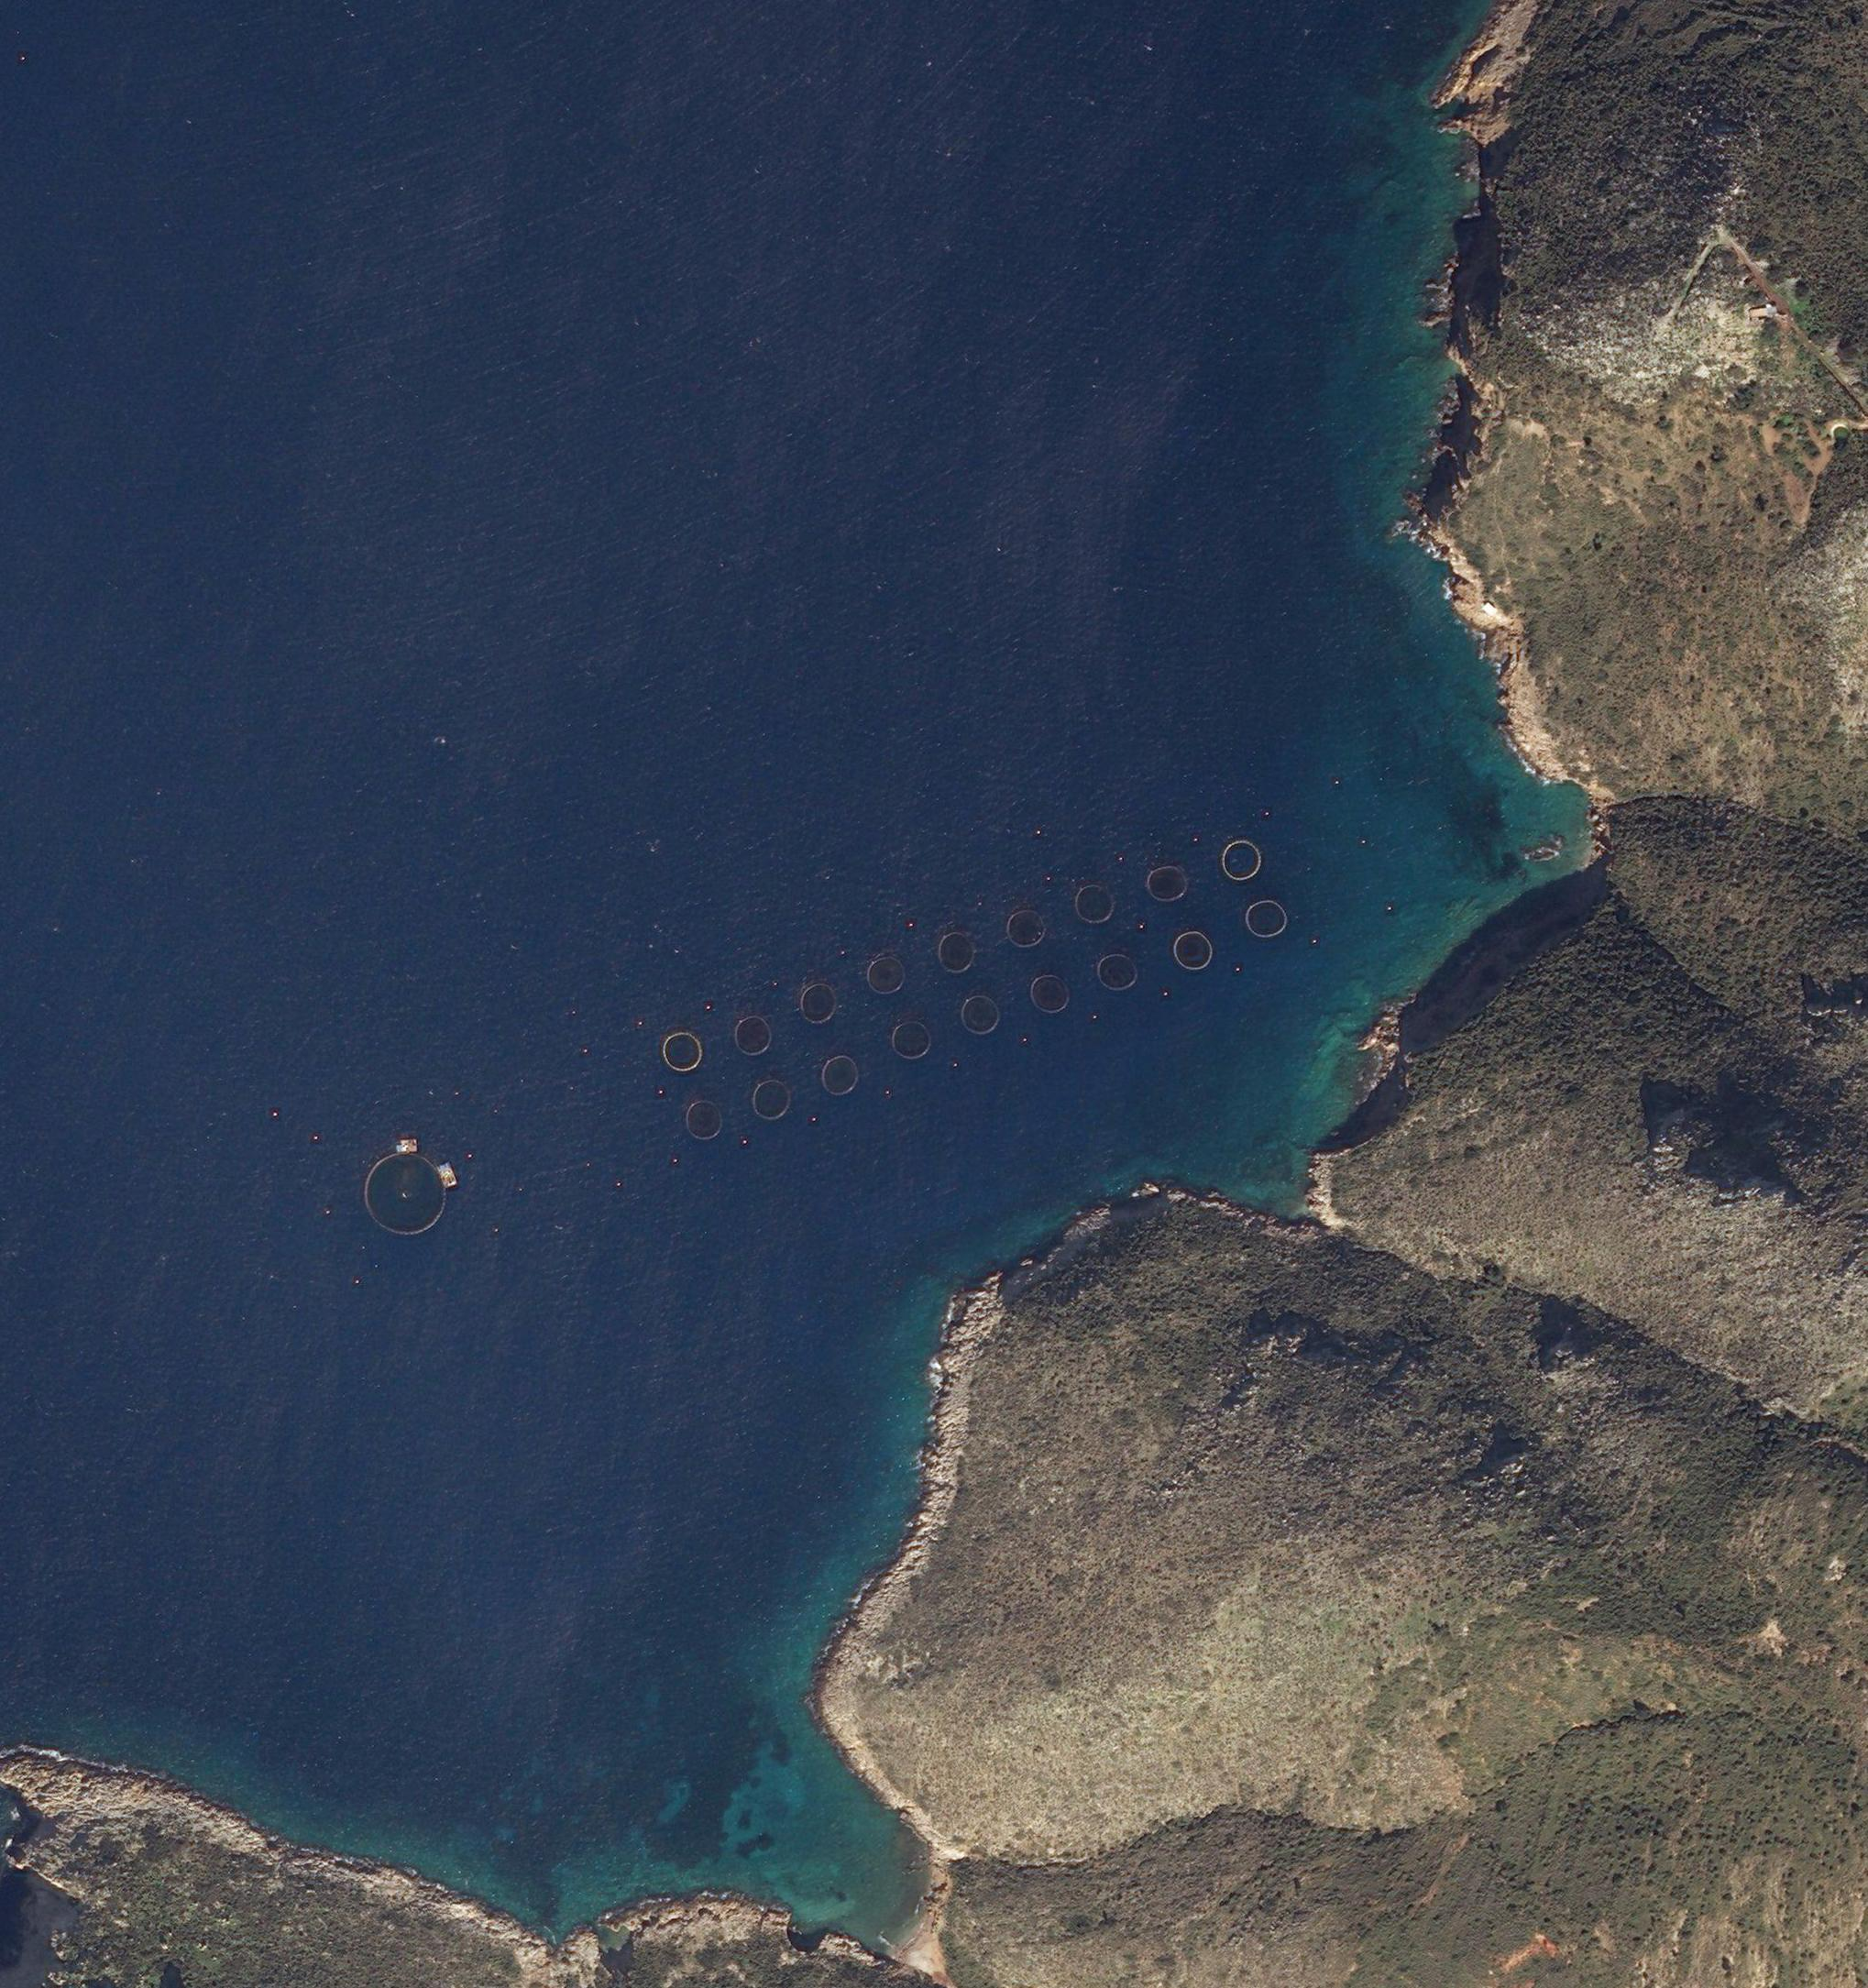c: (363, 1154, 446, 1233), (1173, 929, 1213, 971), (820, 1055, 860, 1096), (799, 982, 837, 1024), (1222, 839, 1261, 882), (664, 1033, 702, 1073), (960, 996, 1001, 1034), (1029, 975, 1069, 1013), (734, 1015, 771, 1057), (1096, 954, 1138, 990), (892, 1020, 930, 1059), (1006, 910, 1045, 948), (1074, 885, 1113, 924), (753, 1078, 790, 1119), (1146, 866, 1187, 903), (939, 931, 974, 973), (1247, 901, 1289, 936), (867, 955, 904, 994), (686, 1099, 722, 1140)
